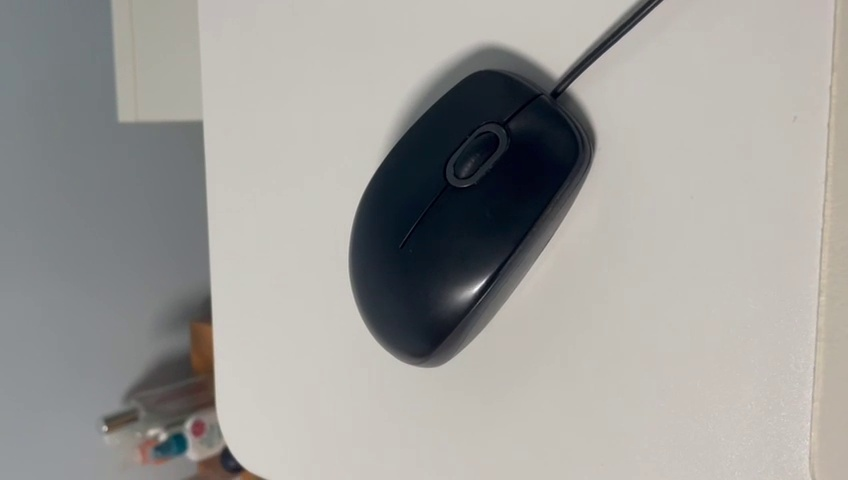objeto: (336, 47, 592, 383)
